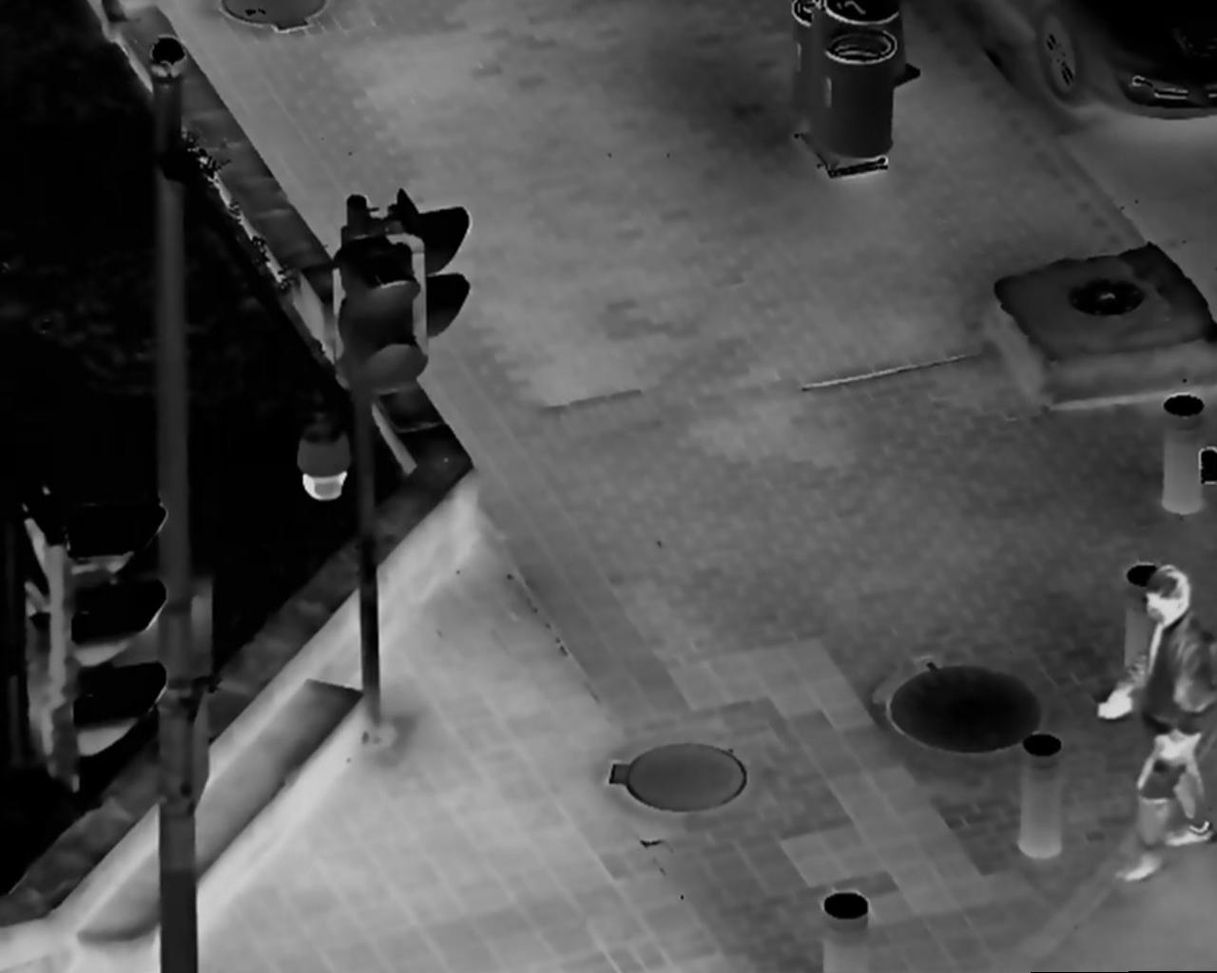person: (1101, 562, 1217, 882)
